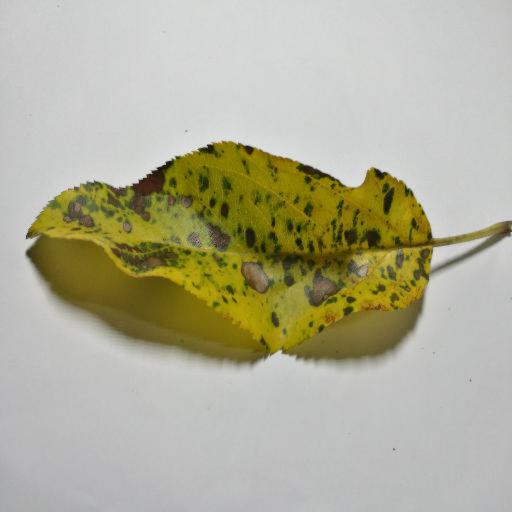Brown_Spot: (118, 245, 178, 277), (123, 168, 165, 205), (66, 207, 102, 228), (313, 270, 331, 312), (246, 261, 268, 293), (165, 191, 191, 205), (128, 214, 150, 230), (210, 228, 225, 247), (186, 232, 200, 246)
